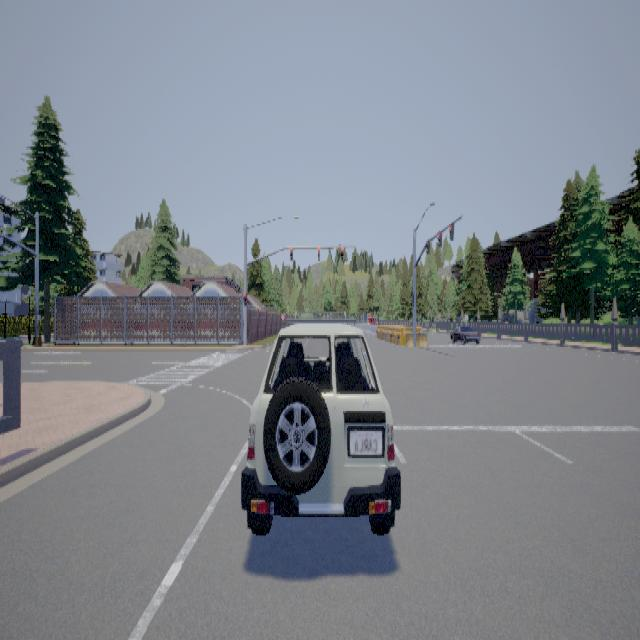red_light: (449, 221, 454, 240), (426, 238, 431, 253), (438, 230, 442, 247), (290, 246, 294, 260), (245, 292, 248, 305), (318, 247, 320, 261), (342, 247, 344, 260)
traffic_light: (412, 291, 415, 305)
vehicle: (242, 310, 402, 534), (451, 325, 482, 344)
